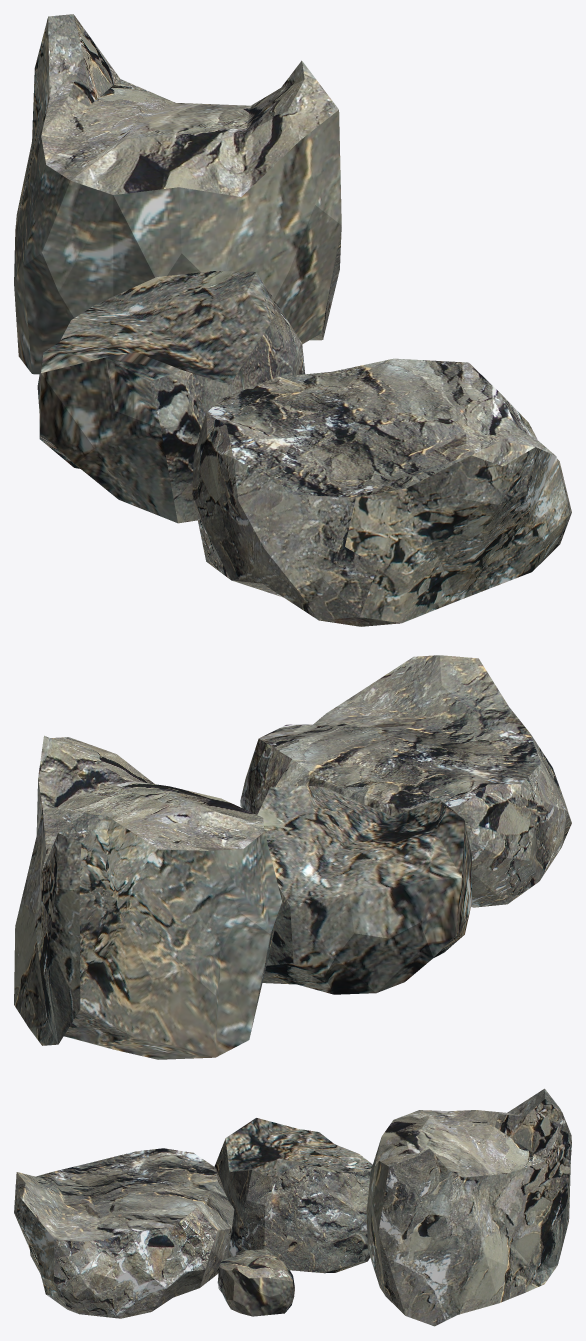
File: Boulder_05.fbx
3 renders of one model, top to bottom at view 1: azimuth 30°, elevation 25°; view 2: azimuth 150°, elevation 25°; view 3: azimuth 270°, elevation 25°, orthographic. The views are drawn at different scales.
Visible parts, largest first — view 1: Boulder_05_M; view 2: Boulder_05_M; view 3: Boulder_05_M.
Part boxes in pixels (x1,y1,x2,y2): Boulder_05_M: (14,14,571,626); Boulder_05_M: (14,655,571,1059); Boulder_05_M: (14,1088,571,1326).
Bounding box in the file's own units: 11.89 × 9.28 × 24.56.
